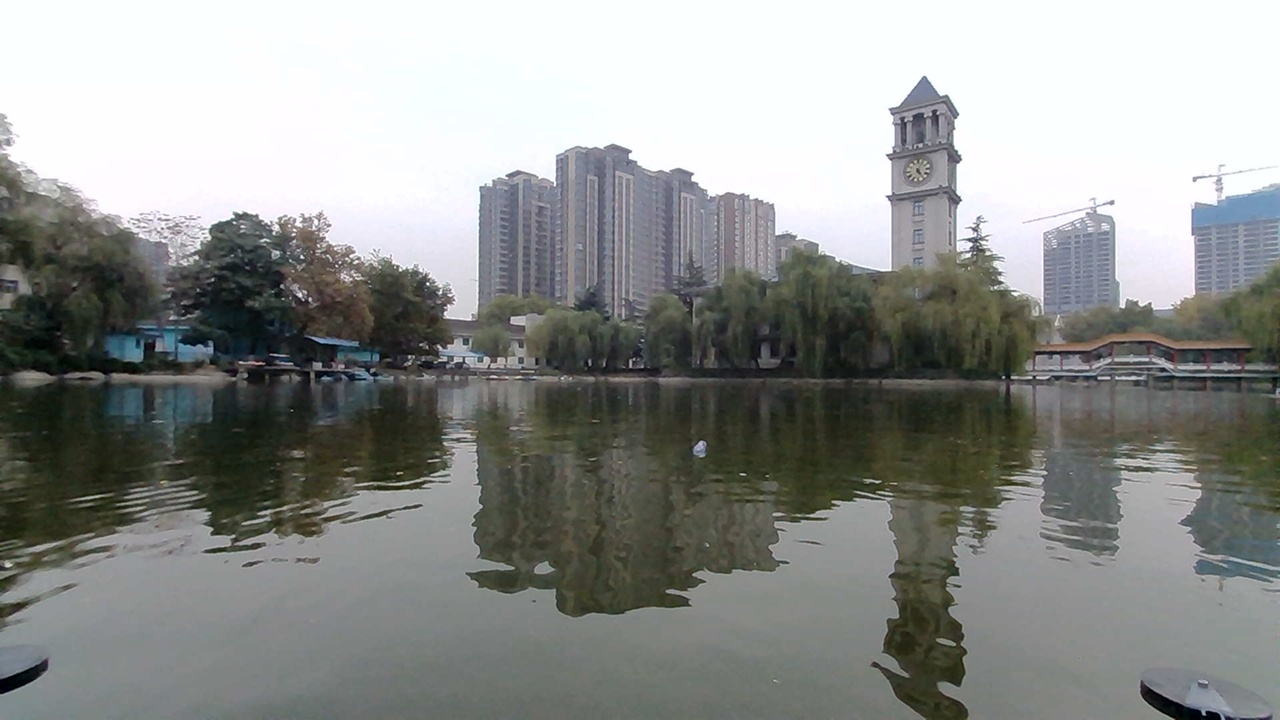bottle: (676, 436, 725, 468)
